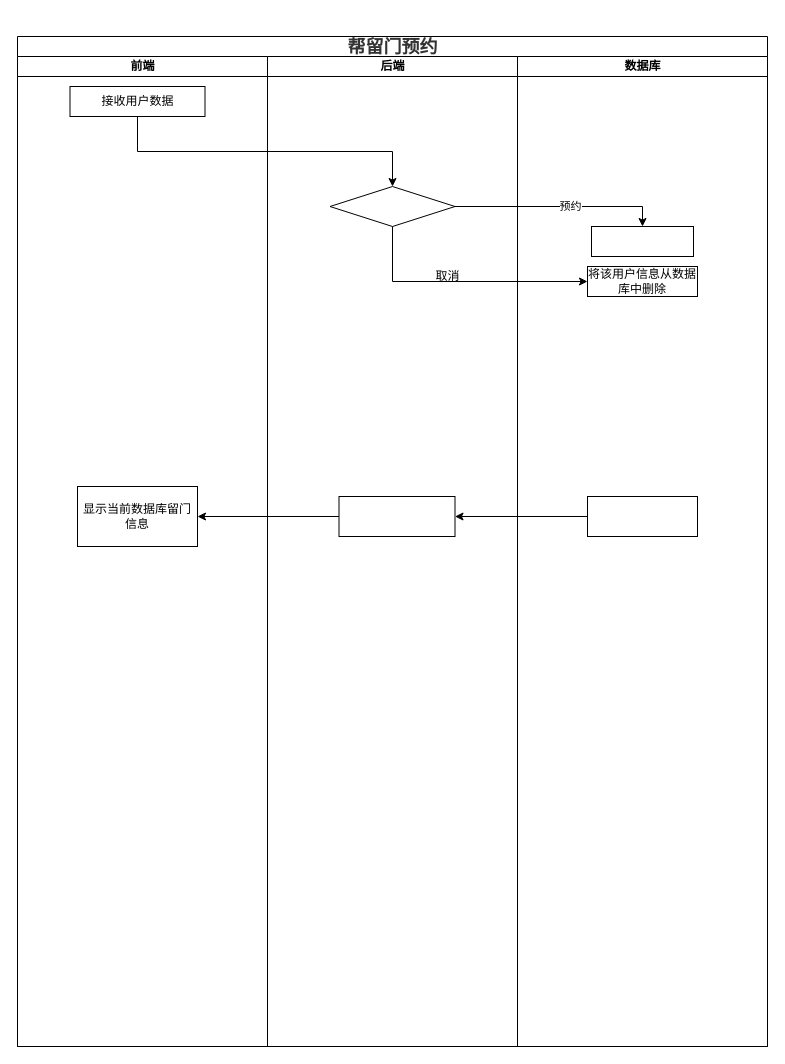
This 785x1064 diagram has some shape labels left out. The centre of each missing label's shape, as x and y in pixels:
"从数据库取出所有留门信息" belongs at point (642, 516).
"将用户ID存入数据库" belongs at point (642, 241).
"得到留门信息" belongs at point (396, 516).
"预约or取消" belongs at point (392, 206).
